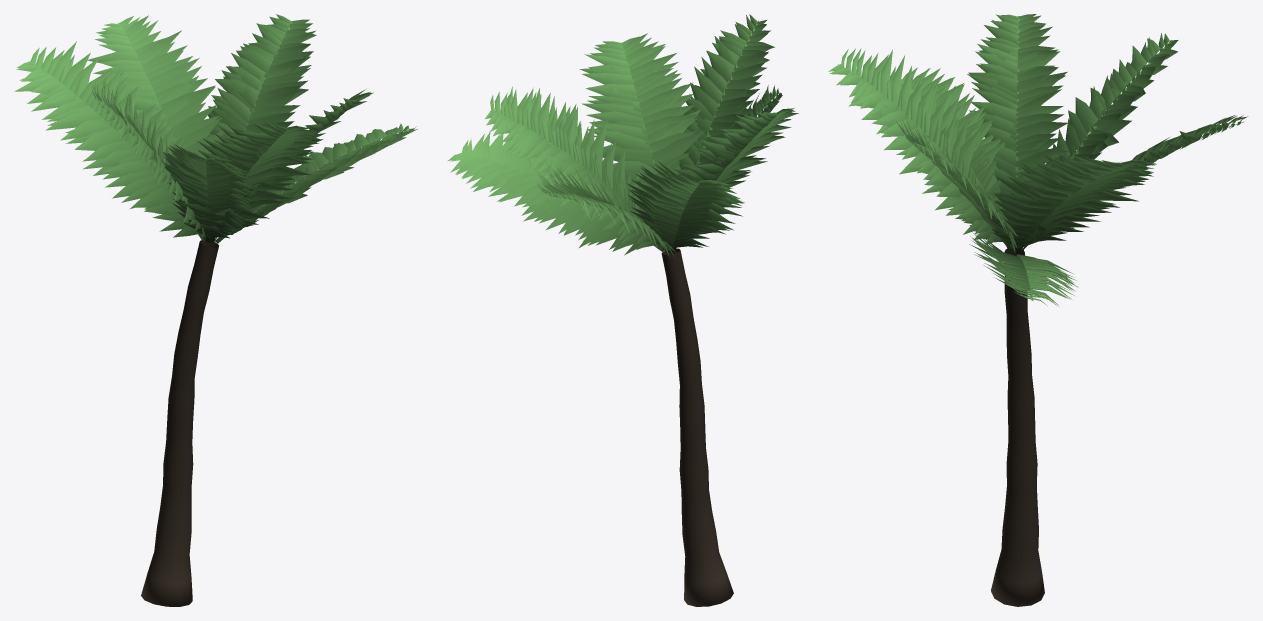
The model's file is SM_Palm_06_Young.fbx.
3 views of the same model, side by side, from view 1: azimuth 30°, elevation 25°; view 2: azimuth 150°, elevation 25°; view 3: azimuth 270°, elevation 25° (orthographic). The views are drawn at different scales.
Parts seen in each view (by area): view 1: SM_Palm_06_Young; view 2: SM_Palm_06_Young; view 3: SM_Palm_06_Young.
Boxes of the visible parts, x1=… form: SM_Palm_06_Young: x1=14, y1=14, x2=417, y2=606; SM_Palm_06_Young: x1=447, y1=14, x2=798, y2=606; SM_Palm_06_Young: x1=828, y1=14, x2=1248, y2=606.
Size of the model in its own units: 170 by 250 by 171.
